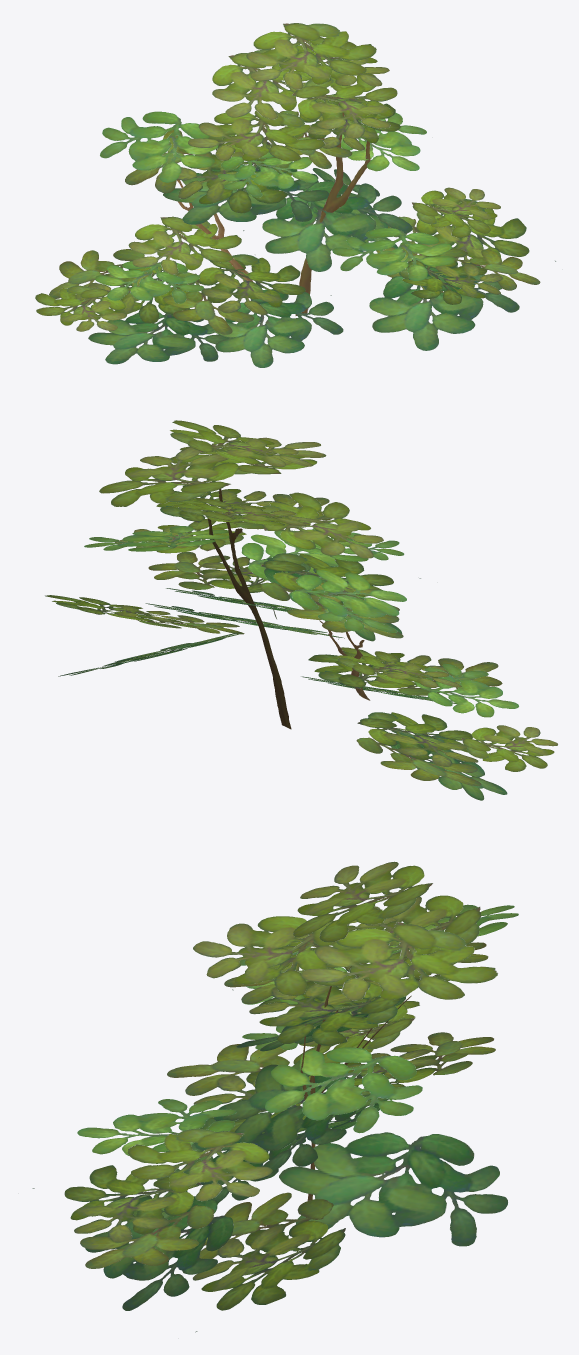
Rendered from Map_07_tree05.FBX.
3 renders of one model, top to bottom at view 1: azimuth 30°, elevation 25°; view 2: azimuth 150°, elevation 25°; view 3: azimuth 270°, elevation 25°, orthographic. The views are drawn at different scales.
Visible parts, largest first — view 1: Map_07_tree05; view 2: Map_07_tree05; view 3: Map_07_tree05.
Part boxes in pixels (x1,y1,x2,y2): Map_07_tree05: [35, 23, 555, 367]; Map_07_tree05: [45, 420, 558, 800]; Map_07_tree05: [32, 861, 518, 1332].
Bounding box in the file's own units: 1492 × 791 × 1051.
Materials: 1 (1 with a texture image).
